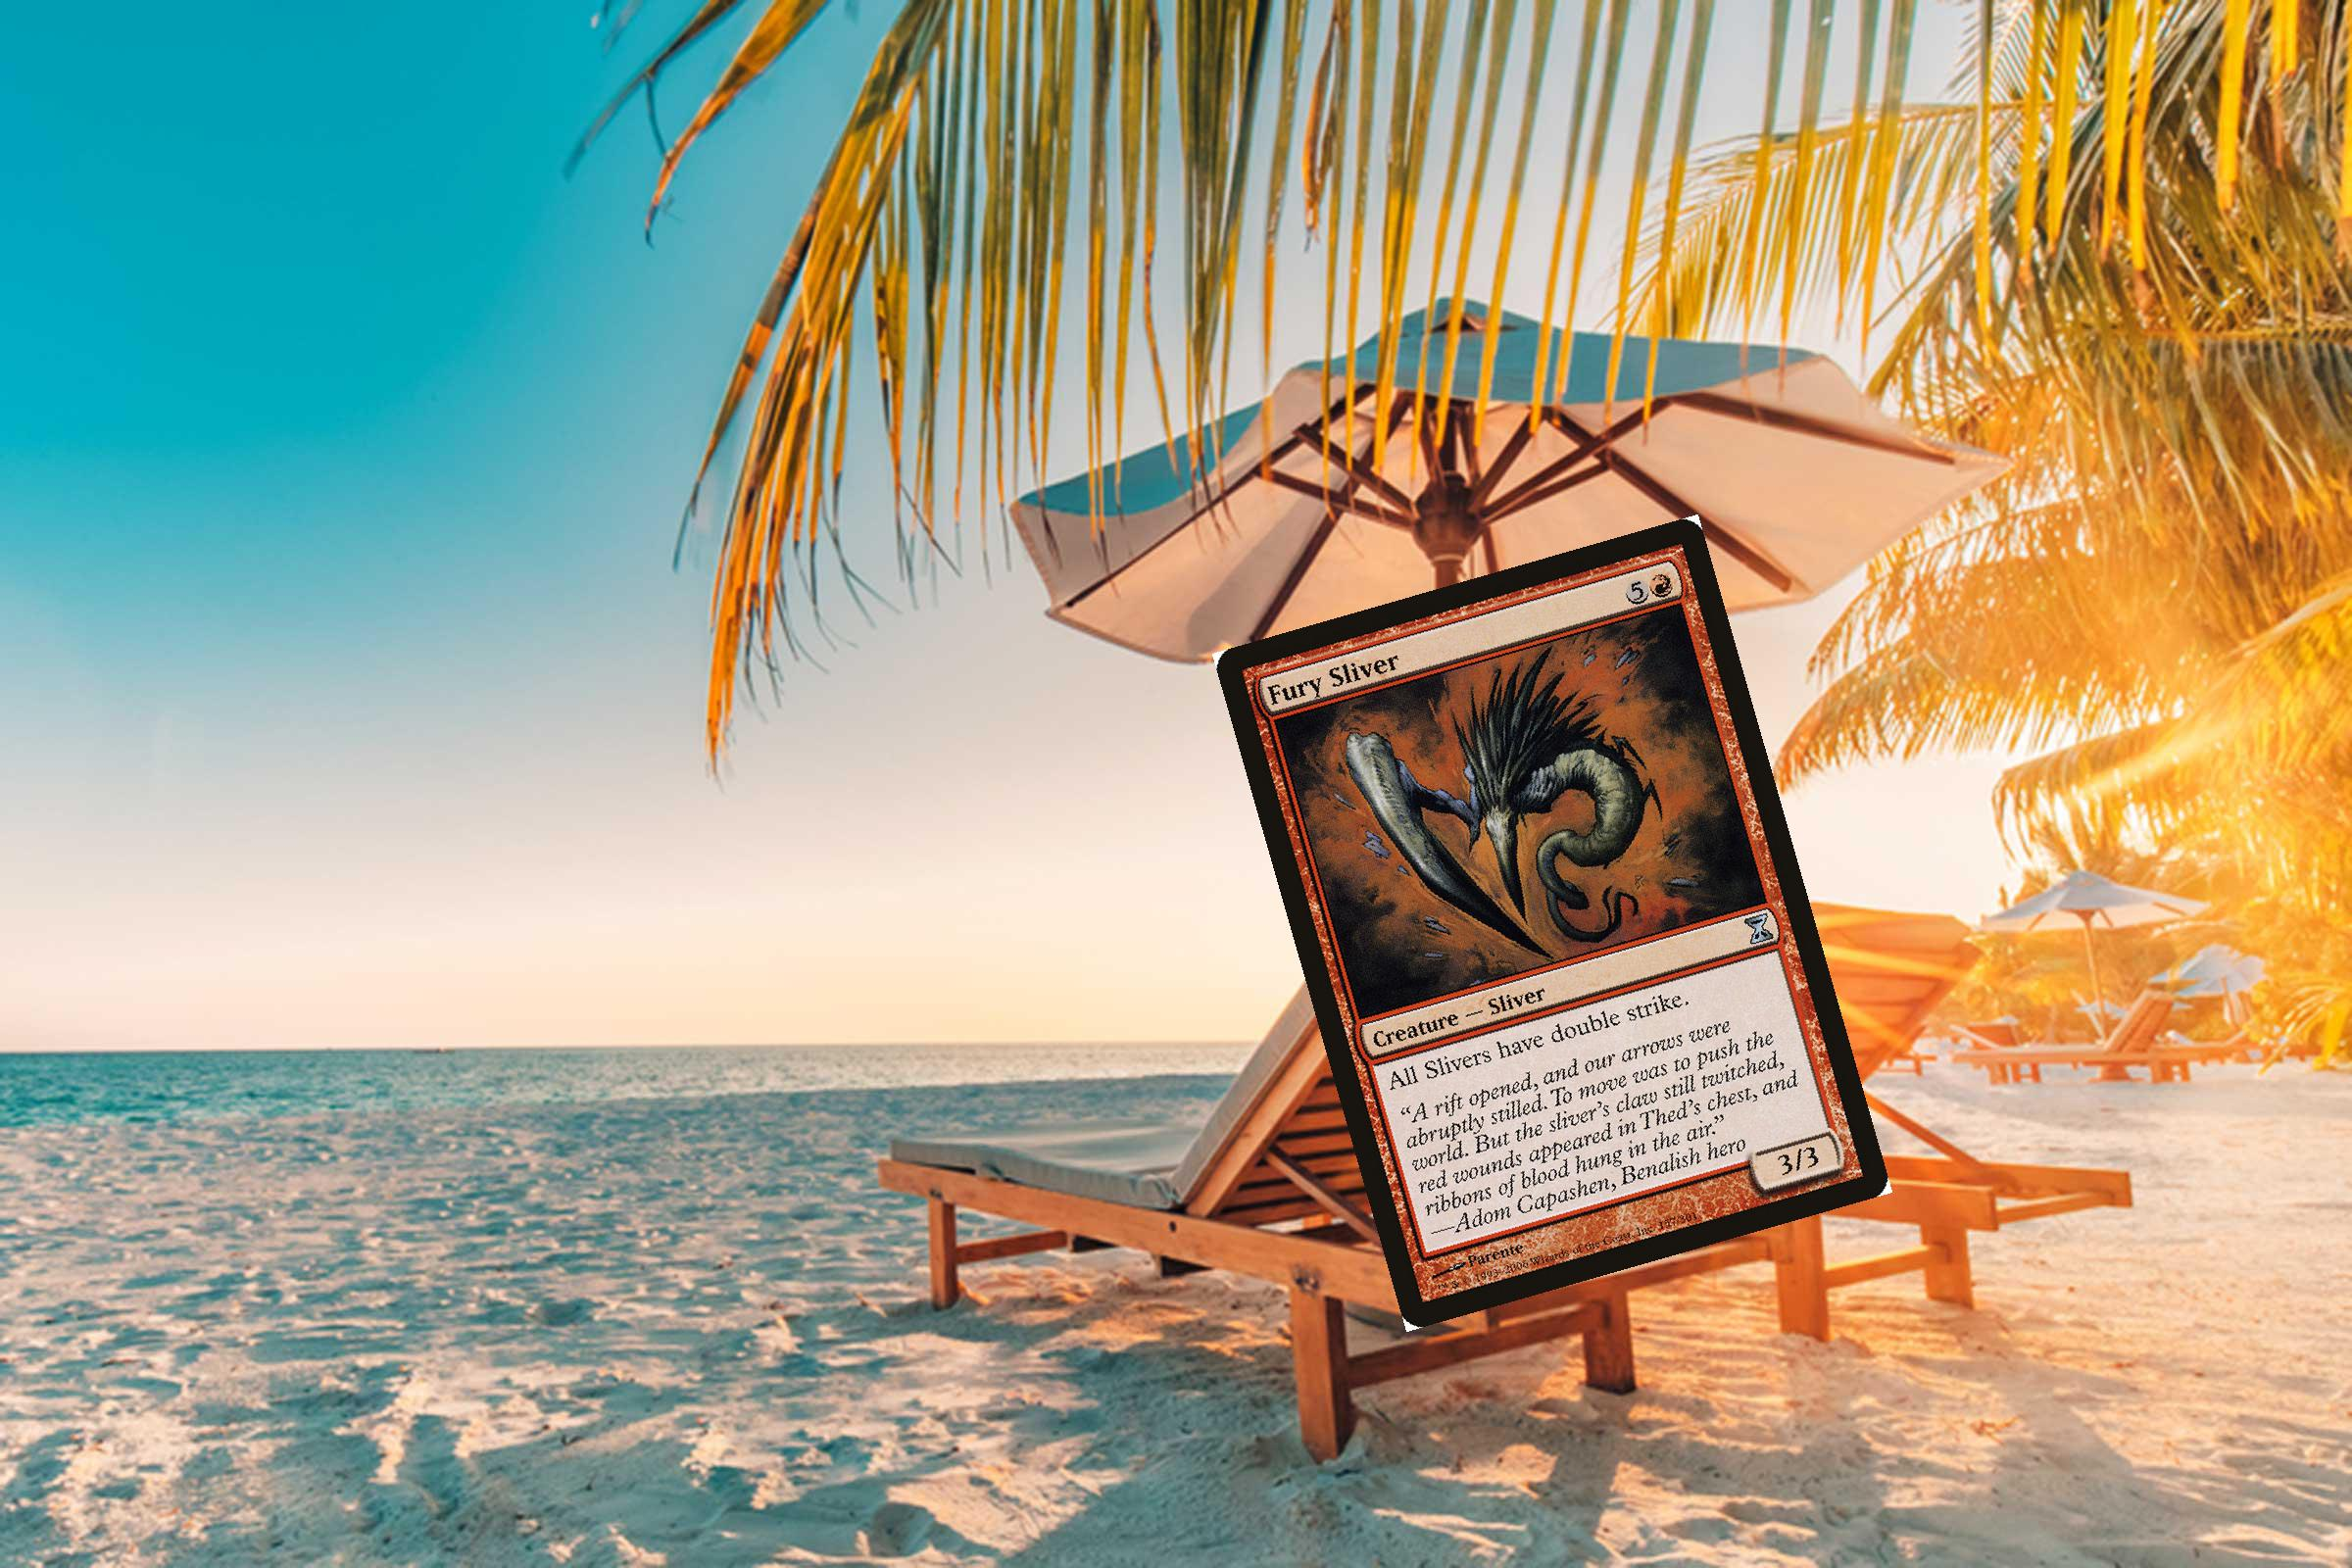mtgCard: (1211, 513, 1894, 1333)
